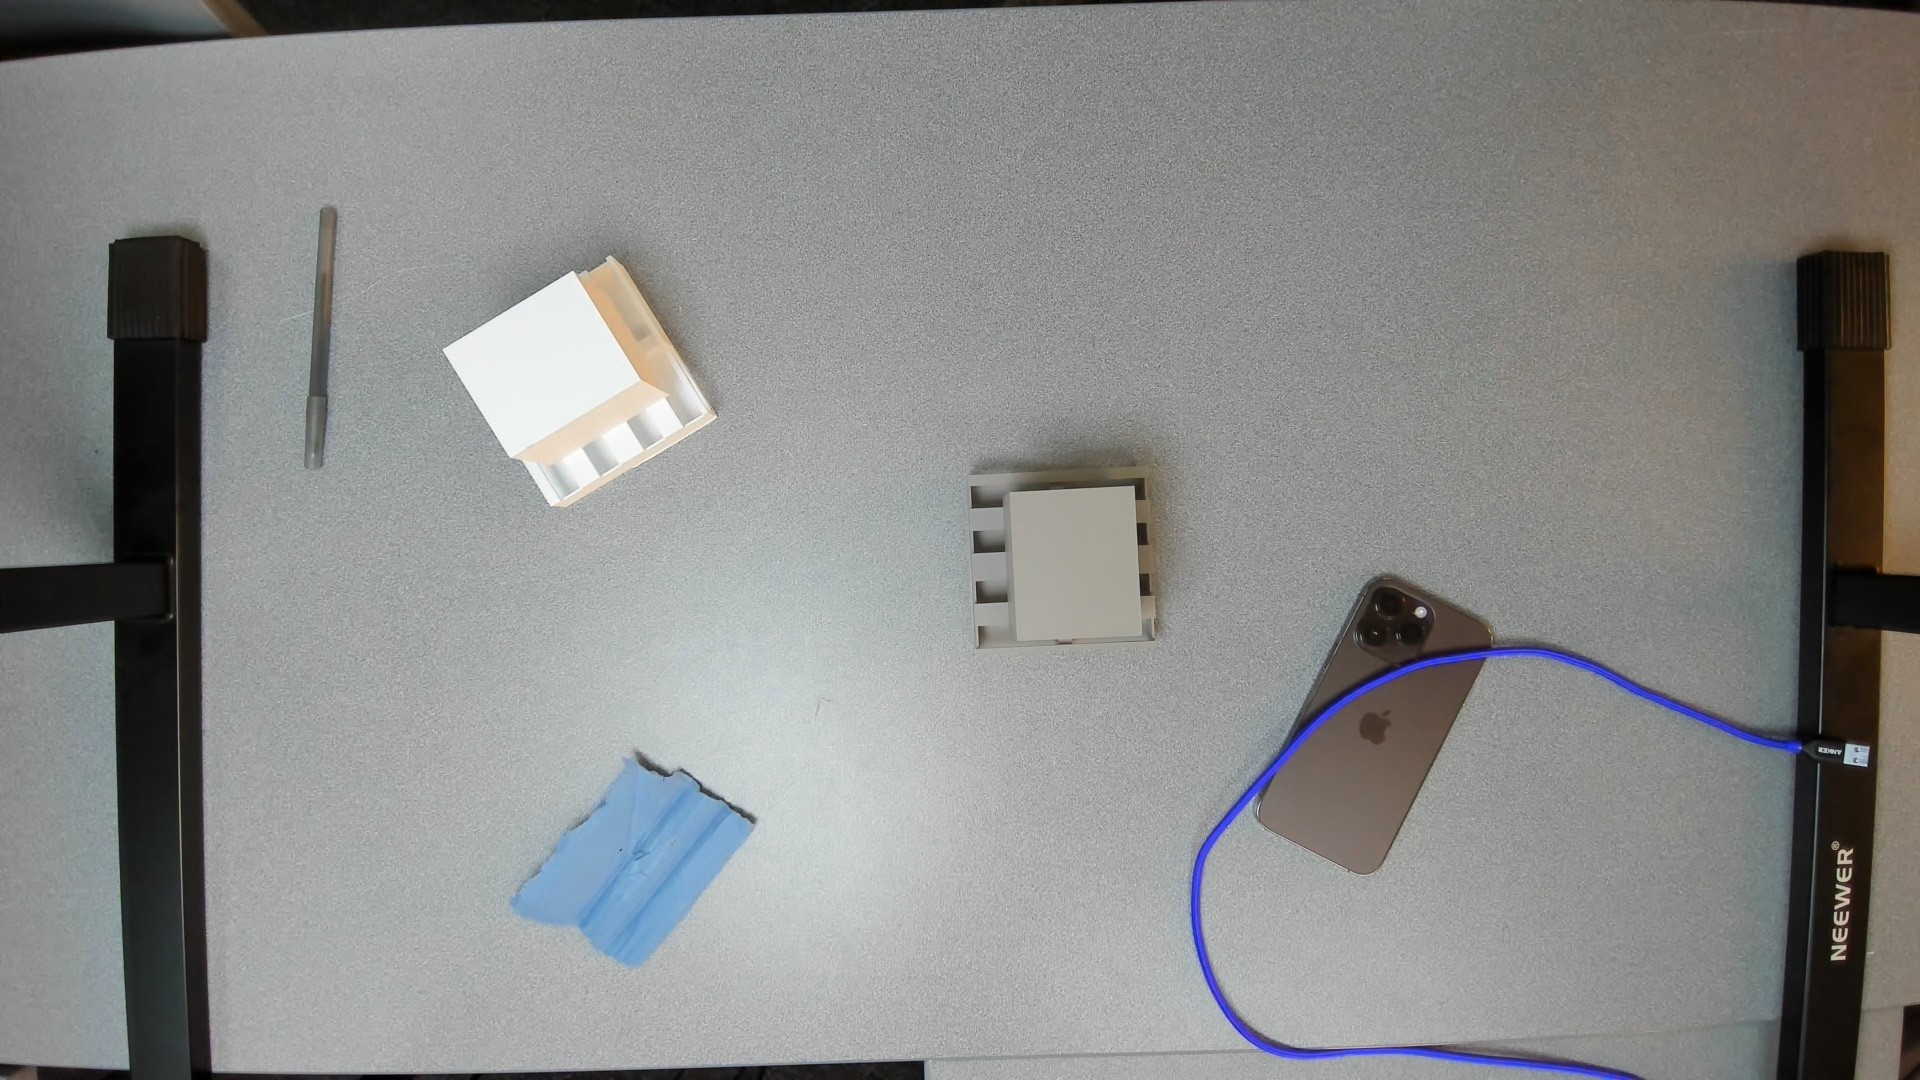grey pallet: (961, 450, 1174, 669)
white pallet: (433, 249, 733, 535)
